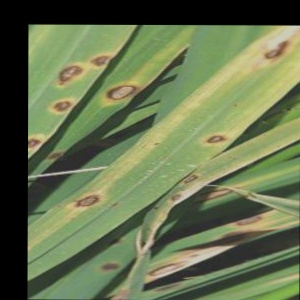Bacterial_Leaf_Blight: (234, 26, 300, 68), (92, 75, 143, 115), (49, 57, 90, 93), (42, 90, 80, 123), (144, 256, 195, 280), (194, 124, 237, 152), (68, 187, 108, 215), (82, 45, 118, 74), (231, 209, 268, 233), (29, 127, 50, 162), (90, 257, 128, 276), (177, 167, 204, 187), (164, 188, 189, 207), (110, 199, 123, 210), (149, 140, 163, 150), (150, 205, 163, 214), (54, 203, 65, 212), (70, 215, 81, 224), (231, 99, 240, 109)
